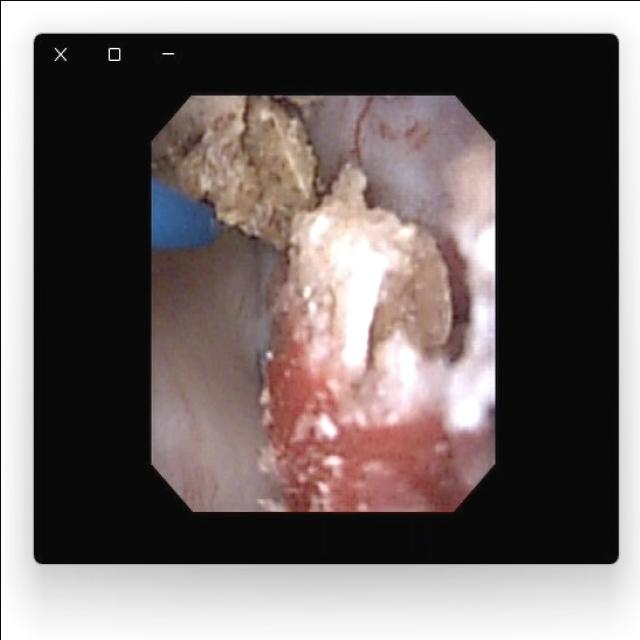fiber: (157, 188, 211, 243)
stone: (160, 99, 446, 372)
